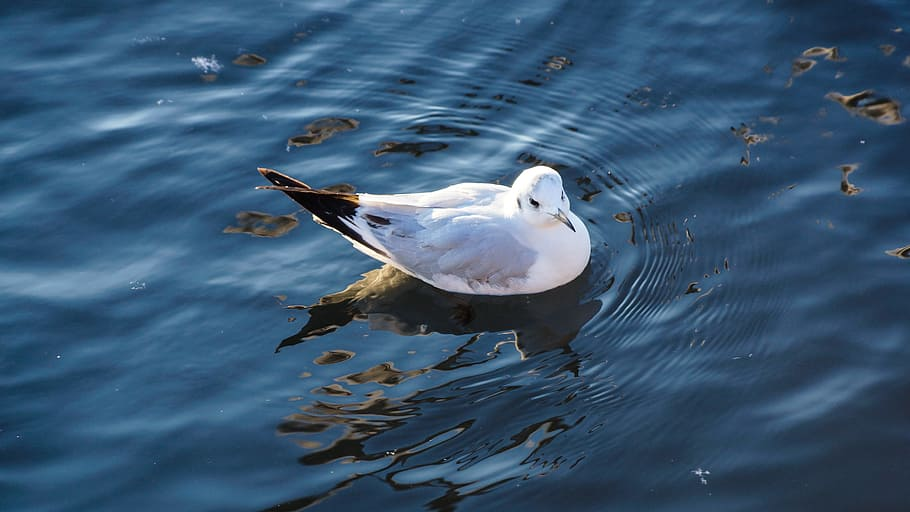bird: (241, 118, 609, 321)
